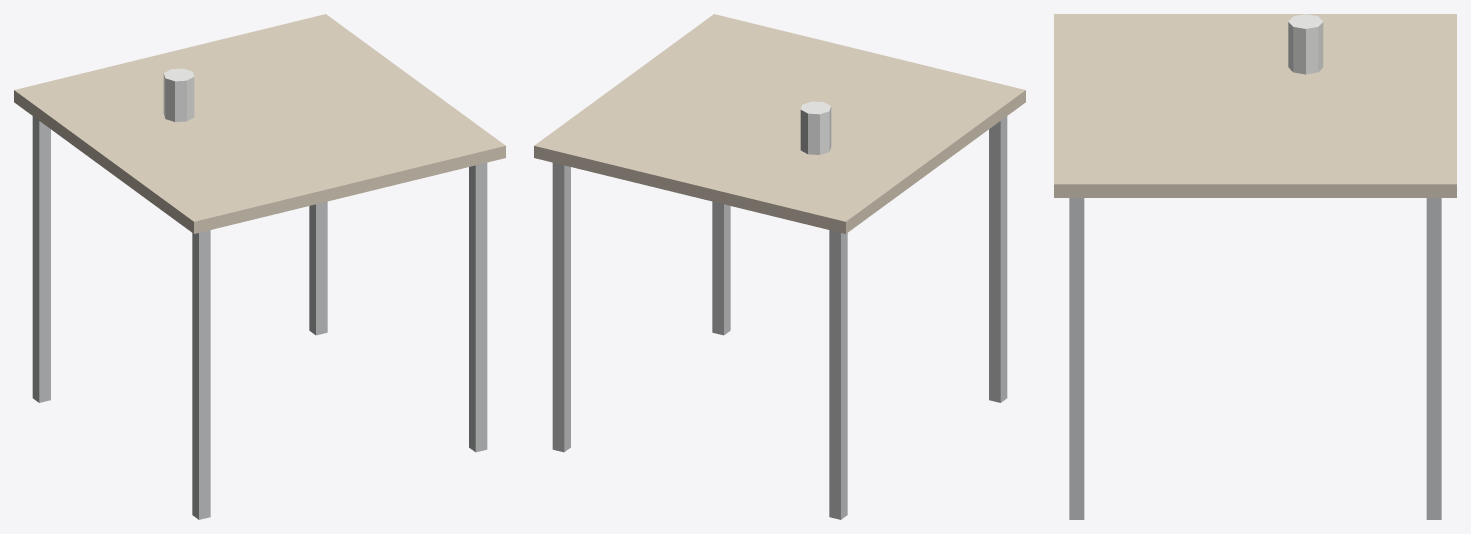
Rendered from Table_Cafe.fbx.
The picture shows the model from 3 angles, left to right: view 1: azimuth 30°, elevation 25°; view 2: azimuth 150°, elevation 25°; view 3: azimuth 270°, elevation 25°; orthographic projection. The views are drawn at different scales.
Visible parts, largest first — view 1: Table_Cafe; view 2: Table_Cafe; view 3: Table_Cafe.
Part boxes in pixels (bbox=[...]): Table_Cafe: bbox=[14, 14, 505, 519]; Table_Cafe: bbox=[534, 14, 1025, 519]; Table_Cafe: bbox=[1054, 14, 1456, 519].
Size of the model in its own units: 0.8 by 0.85 by 0.8.
